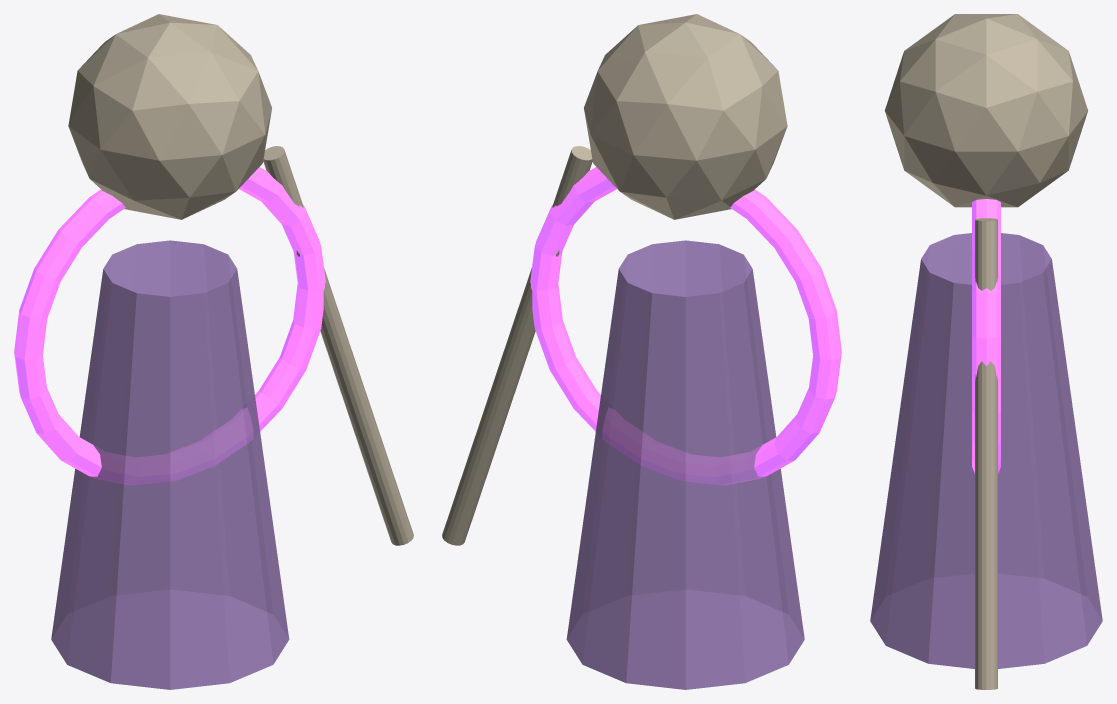
File: throne-echo.glb
3 views of the same model, side by side, from view 1: azimuth 30°, elevation 25°; view 2: azimuth 150°, elevation 25°; view 3: azimuth 270°, elevation 25° (orthographic). The views are drawn at different scales.
Parts seen in each view (by area): view 1: throneecho-body, throneecho-head, throneecho-echo-ring, throneecho-staff; view 2: throneecho-body, throneecho-head, throneecho-echo-ring, throneecho-staff; view 3: throneecho-body, throneecho-head, throneecho-staff, throneecho-echo-ring.
Boxes of the visible parts, bbox=[...] form: throneecho-body: bbox=[51, 240, 289, 689]; throneecho-head: bbox=[68, 14, 271, 219]; throneecho-echo-ring: bbox=[14, 167, 325, 484]; throneecho-staff: bbox=[263, 146, 413, 545]; throneecho-body: bbox=[566, 240, 804, 689]; throneecho-head: bbox=[584, 14, 787, 219]; throneecho-echo-ring: bbox=[530, 167, 841, 484]; throneecho-staff: bbox=[442, 146, 592, 545]; throneecho-body: bbox=[870, 233, 1102, 668]; throneecho-head: bbox=[884, 14, 1088, 207]; throneecho-staff: bbox=[975, 218, 997, 689]; throneecho-echo-ring: bbox=[972, 199, 1000, 473].
Bounding box in the file's own units: 0.6156 × 0.915 × 0.32.
